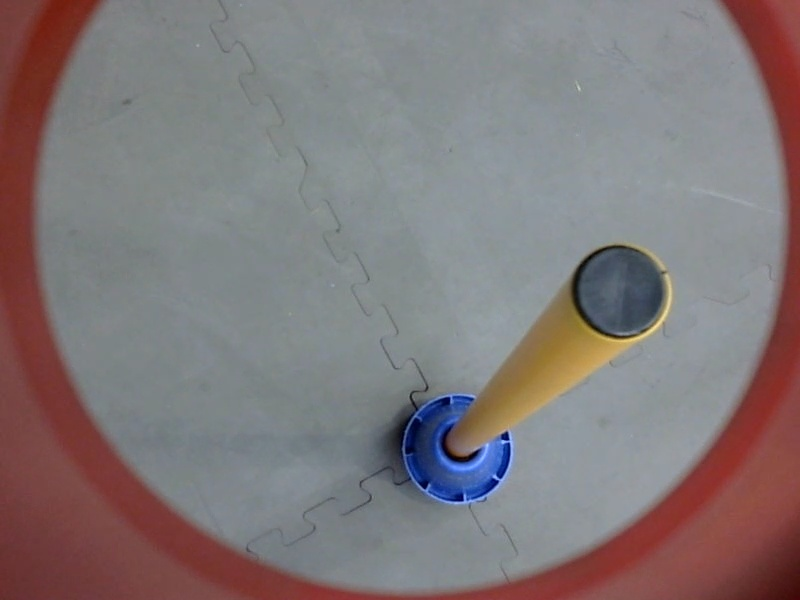tip: (566, 238, 675, 347)
